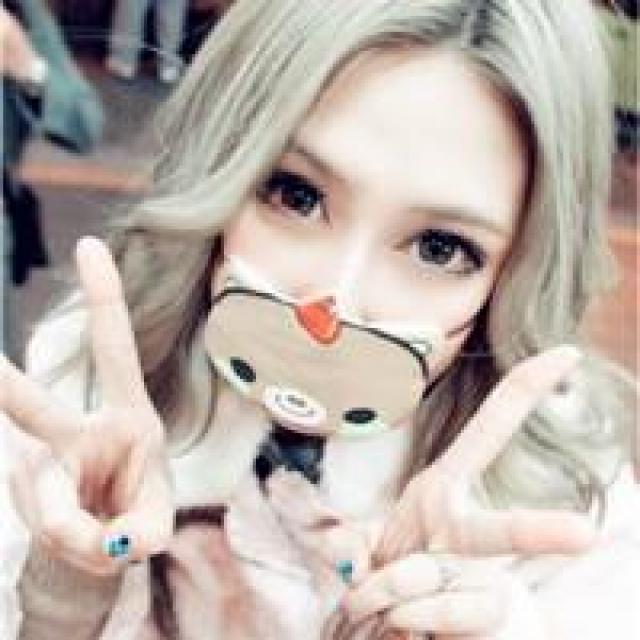mask: (206, 34, 504, 432)
